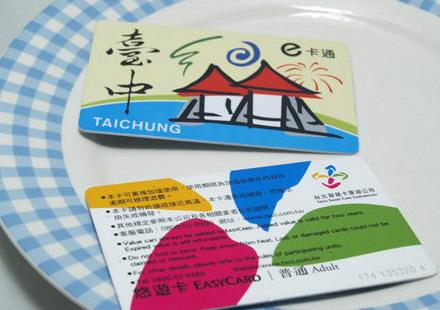Taiwan_EasyCard: (88, 149, 436, 307)
